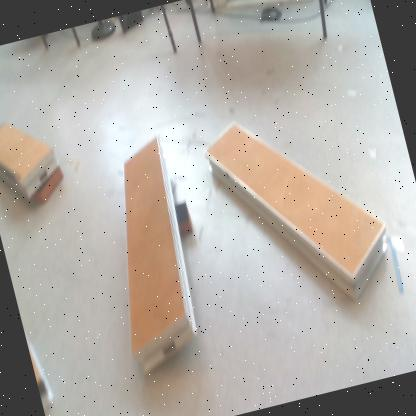Stairs: (205, 123, 390, 303), (125, 139, 200, 380), (1, 122, 62, 201), (25, 330, 56, 416)
